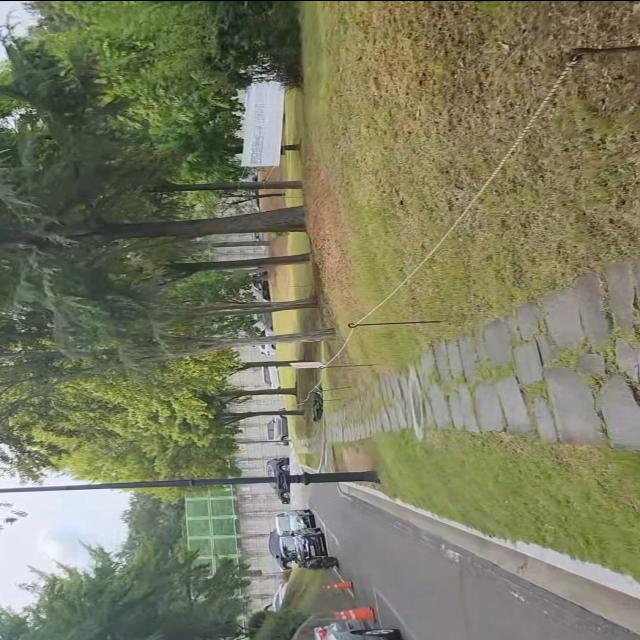obstacle: (0, 469, 383, 495), (270, 503, 348, 573), (307, 616, 407, 640)
road: (316, 478, 640, 640)
sidewalk: (325, 245, 640, 446)
